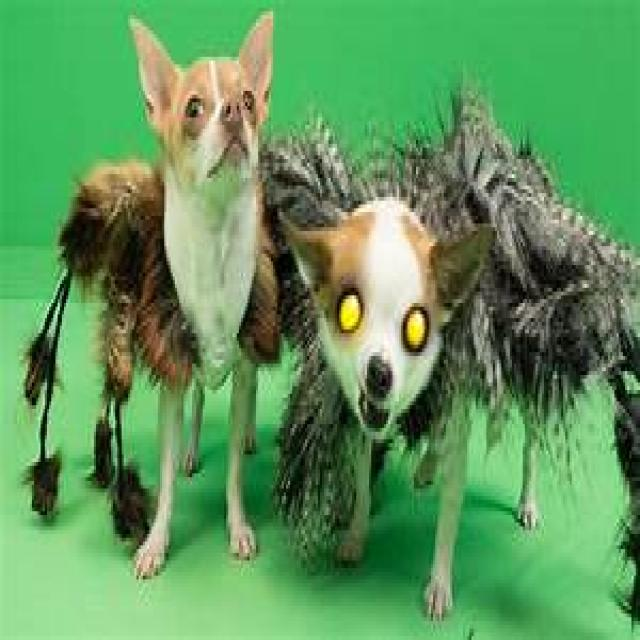KOPEK: (133, 12, 275, 590)
